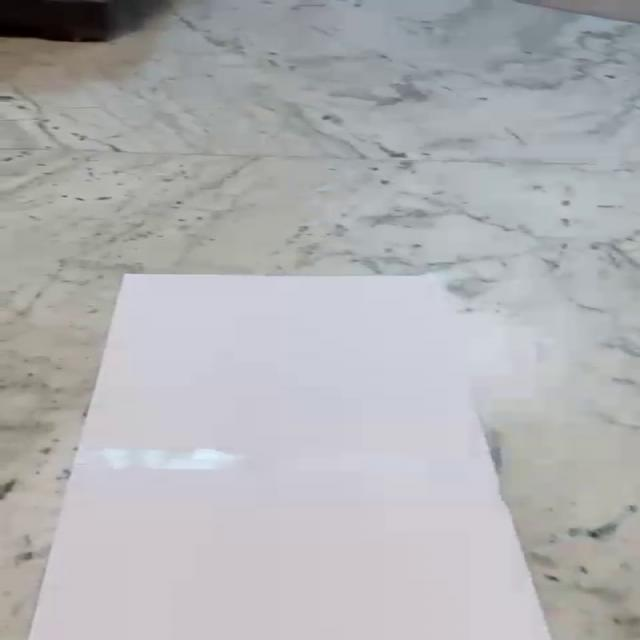road: (25, 274, 553, 640)
